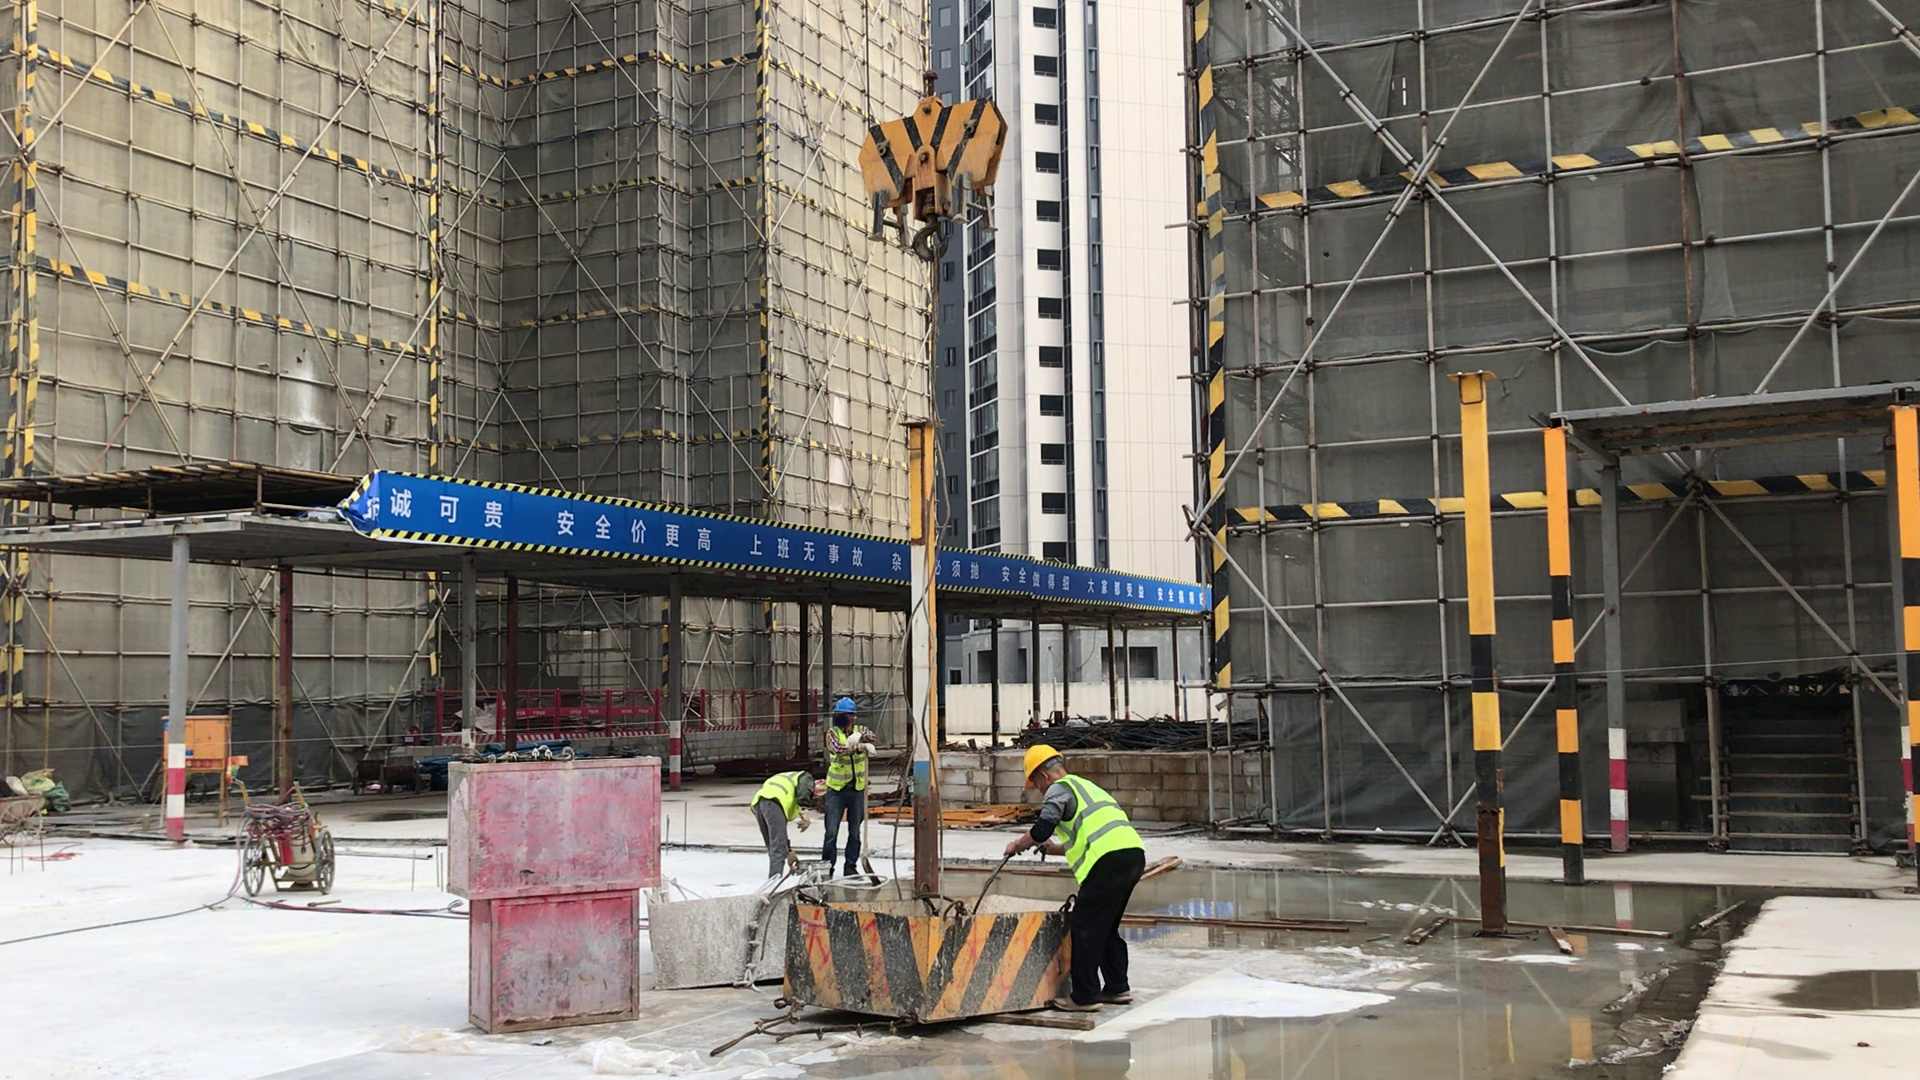ebox: (184, 708, 232, 826)
fence: (380, 474, 896, 585), (951, 549, 1199, 615), (523, 682, 663, 735), (694, 684, 793, 729)
handcart: (222, 771, 339, 902), (1, 791, 39, 849)
helmet: (1015, 742, 1064, 789), (832, 694, 857, 715)
hook: (854, 65, 1010, 261)
hopper: (771, 878, 1069, 1013), (645, 885, 782, 1000)
person: (1015, 743, 1147, 971), (819, 695, 875, 880), (740, 767, 817, 880)
vest: (1043, 777, 1150, 885), (825, 722, 871, 795), (747, 769, 804, 824)
